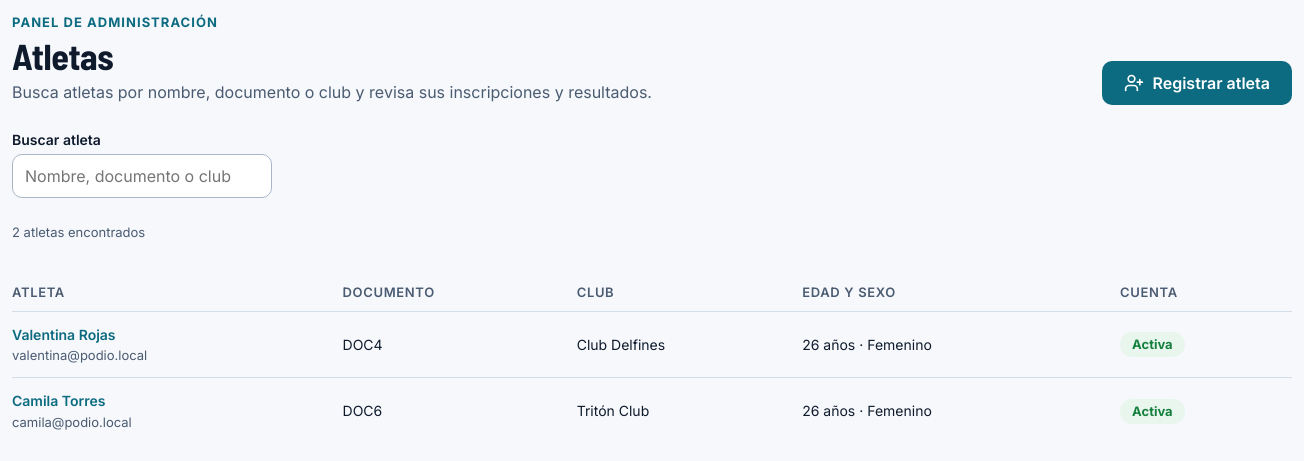
it: AtletasPage › busca mientras se escribe
The width and height of the screenshot is (1304, 461).
Expected: the table named "Atletas" is shown, top-left (12, 282), bottom-right (1292, 444)
Type "Delfines" into the search field labelled "Buscar atleta".
click(142, 176); type("Delfines")  # box top-left (12, 154), bottom-right (272, 198)
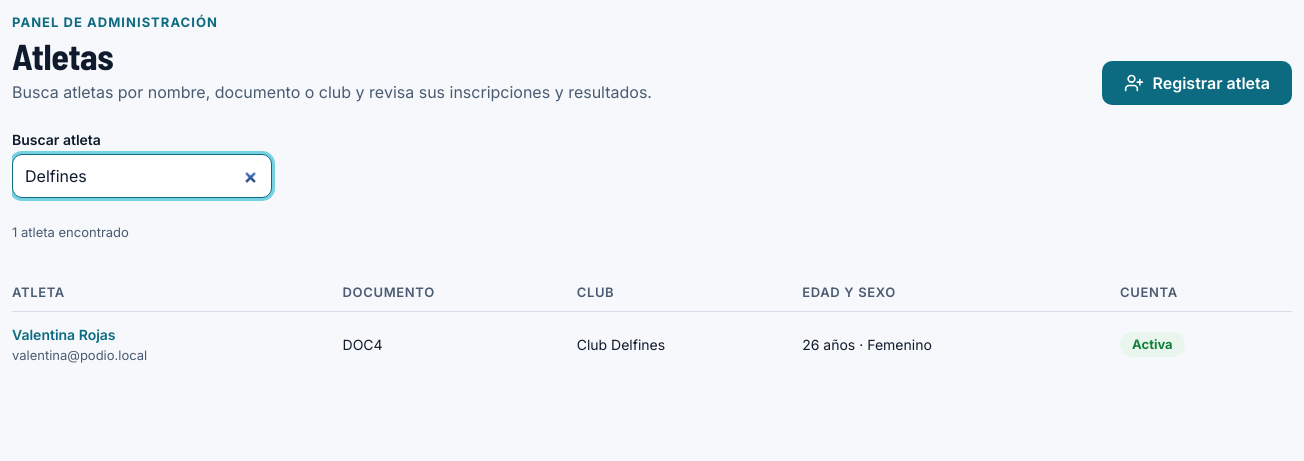
Result: the text "1 atleta encontrado" is shown at top-left (12, 224), bottom-right (129, 240)
Result: the link "Camila Torres" is gone
